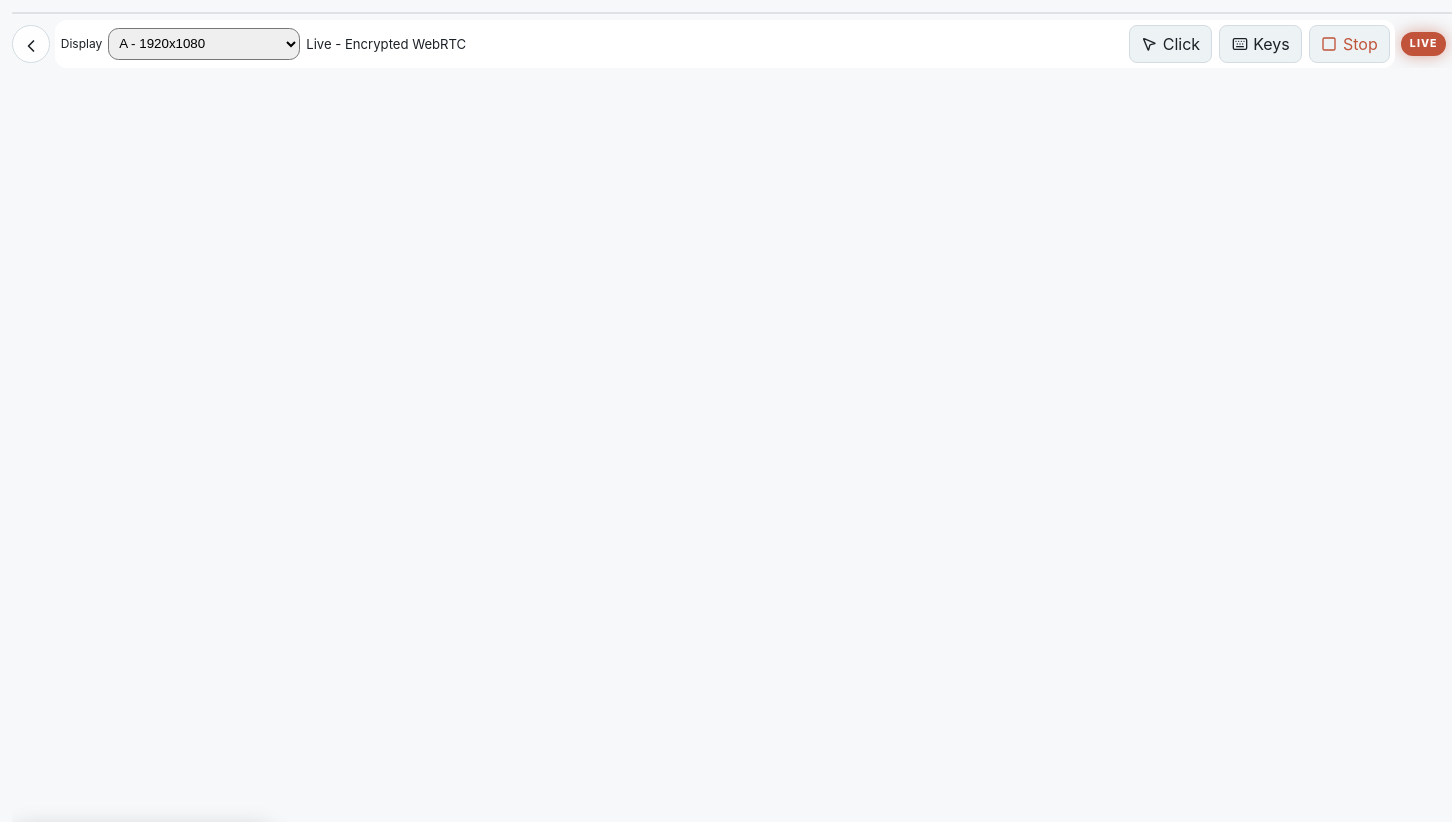
Test case: ScreenViewWorkspace › stops an unconfirmed display switch at its response deadline
Select "B - 1920x1080" in the dropdown labelled "Display" at (204, 44), box [108,28,300,60]
Wait 10000 ms
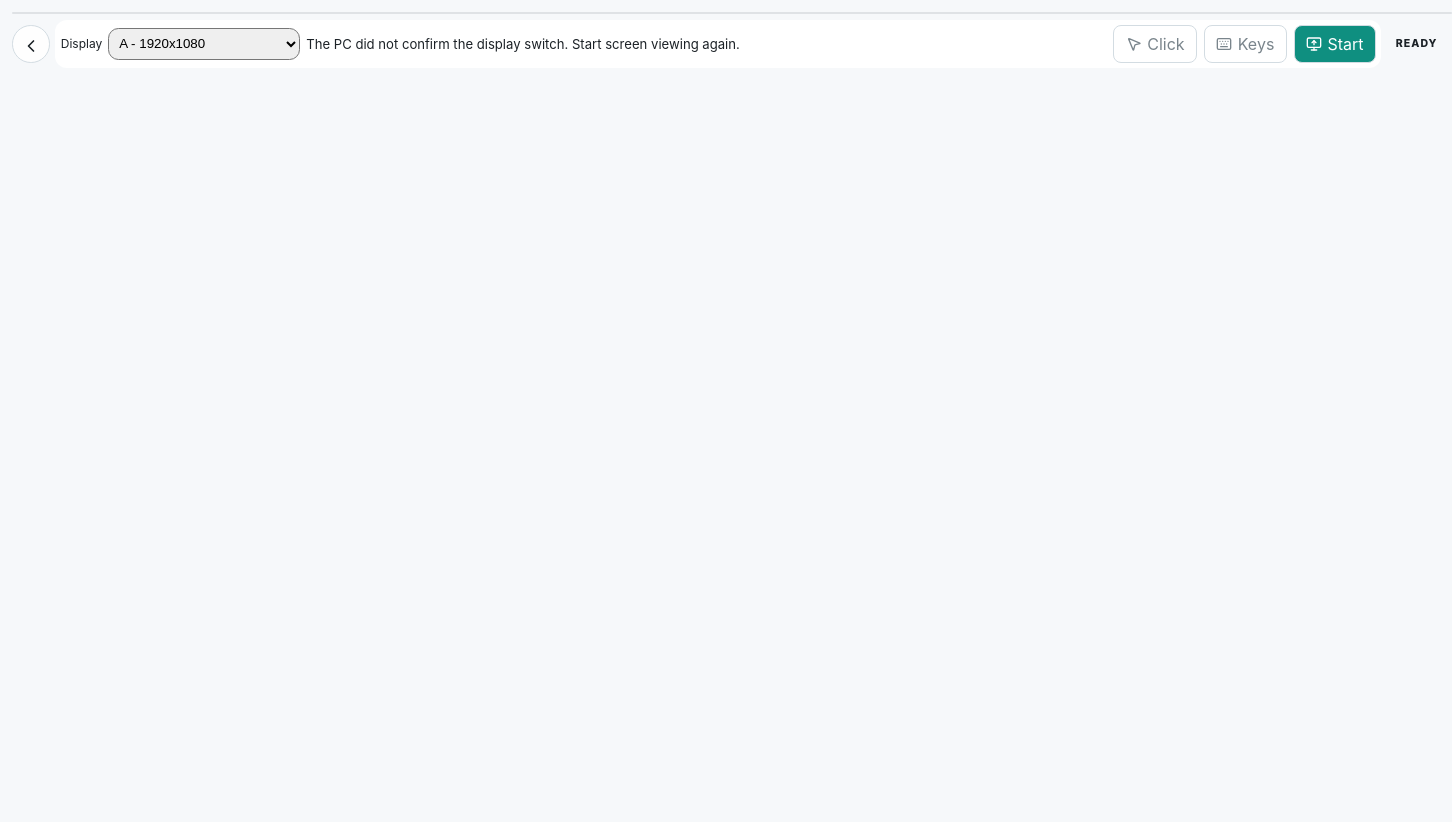
Expected: the message shows "did not confirm the display switch", [306,36,740,52]
